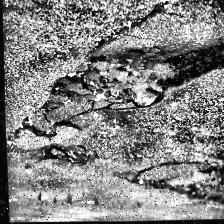pothole: (16, 0, 224, 144), (184, 166, 224, 214)
